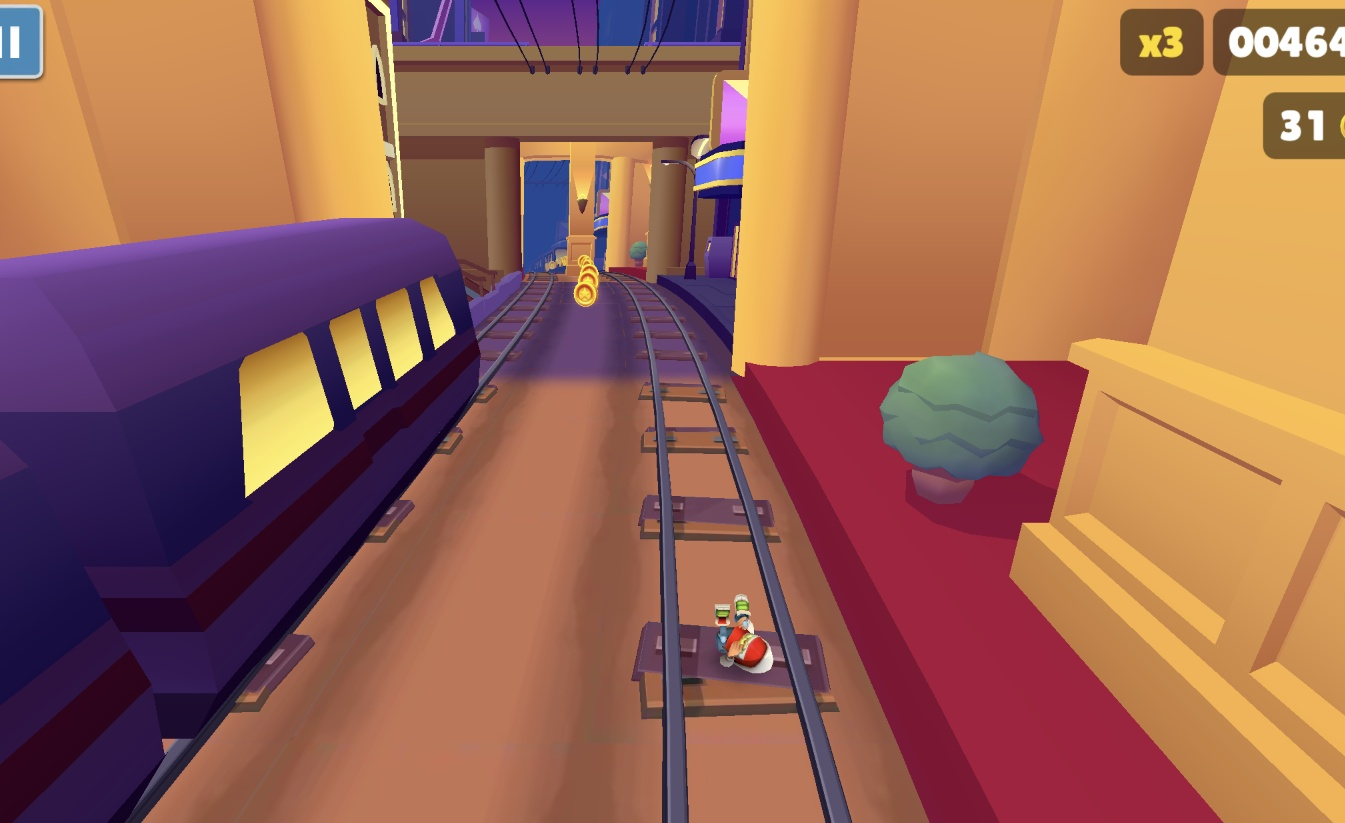pillar: (564, 139, 601, 283)
train: (0, 218, 481, 823), (529, 238, 568, 276)
